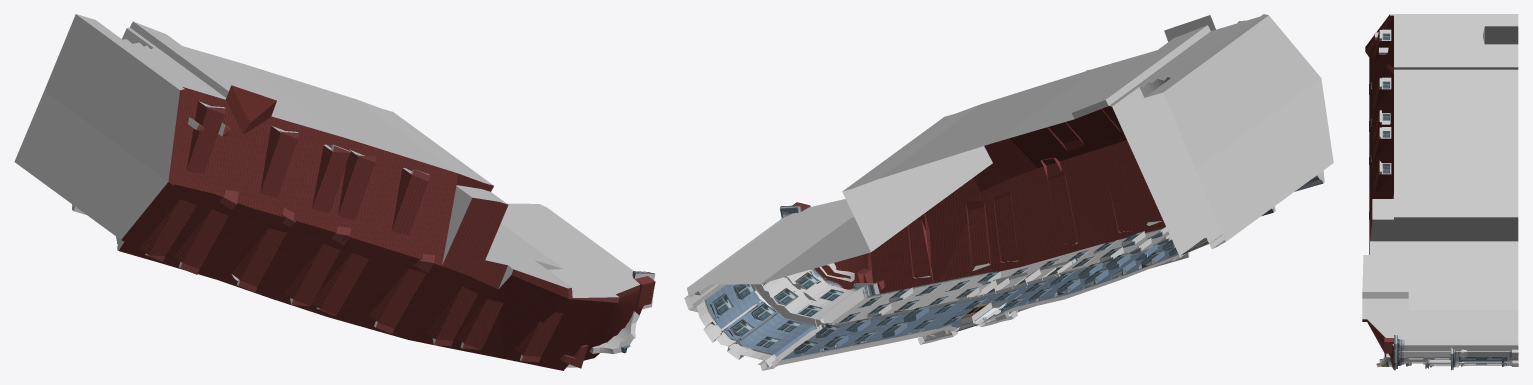
File: Vana-Posti_11-origo.obj
3 views of the same model, side by side, from view 1: azimuth 30°, elevation 25°; view 2: azimuth 150°, elevation 25°; view 3: azimuth 270°, elevation 25° (orthographic). The views are drawn at different scales.
Visible parts, largest first — view 1: Vana_Posti_11; view 2: Vana_Posti_11; view 3: Vana_Posti_11.
Part boxes in pixels (x1,y1,x2,y2): Vana_Posti_11: (14,14,655,370); Vana_Posti_11: (684,14,1333,370); Vana_Posti_11: (1362,14,1518,370).
Bounding box in the file's own units: 53.19 × 35.5 × 21.63.
